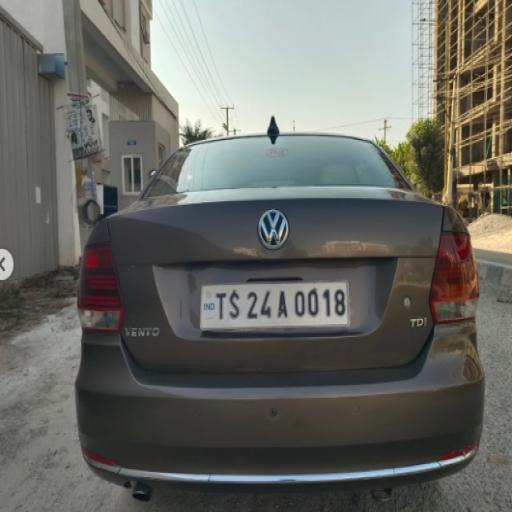License: (202, 280, 353, 334)
